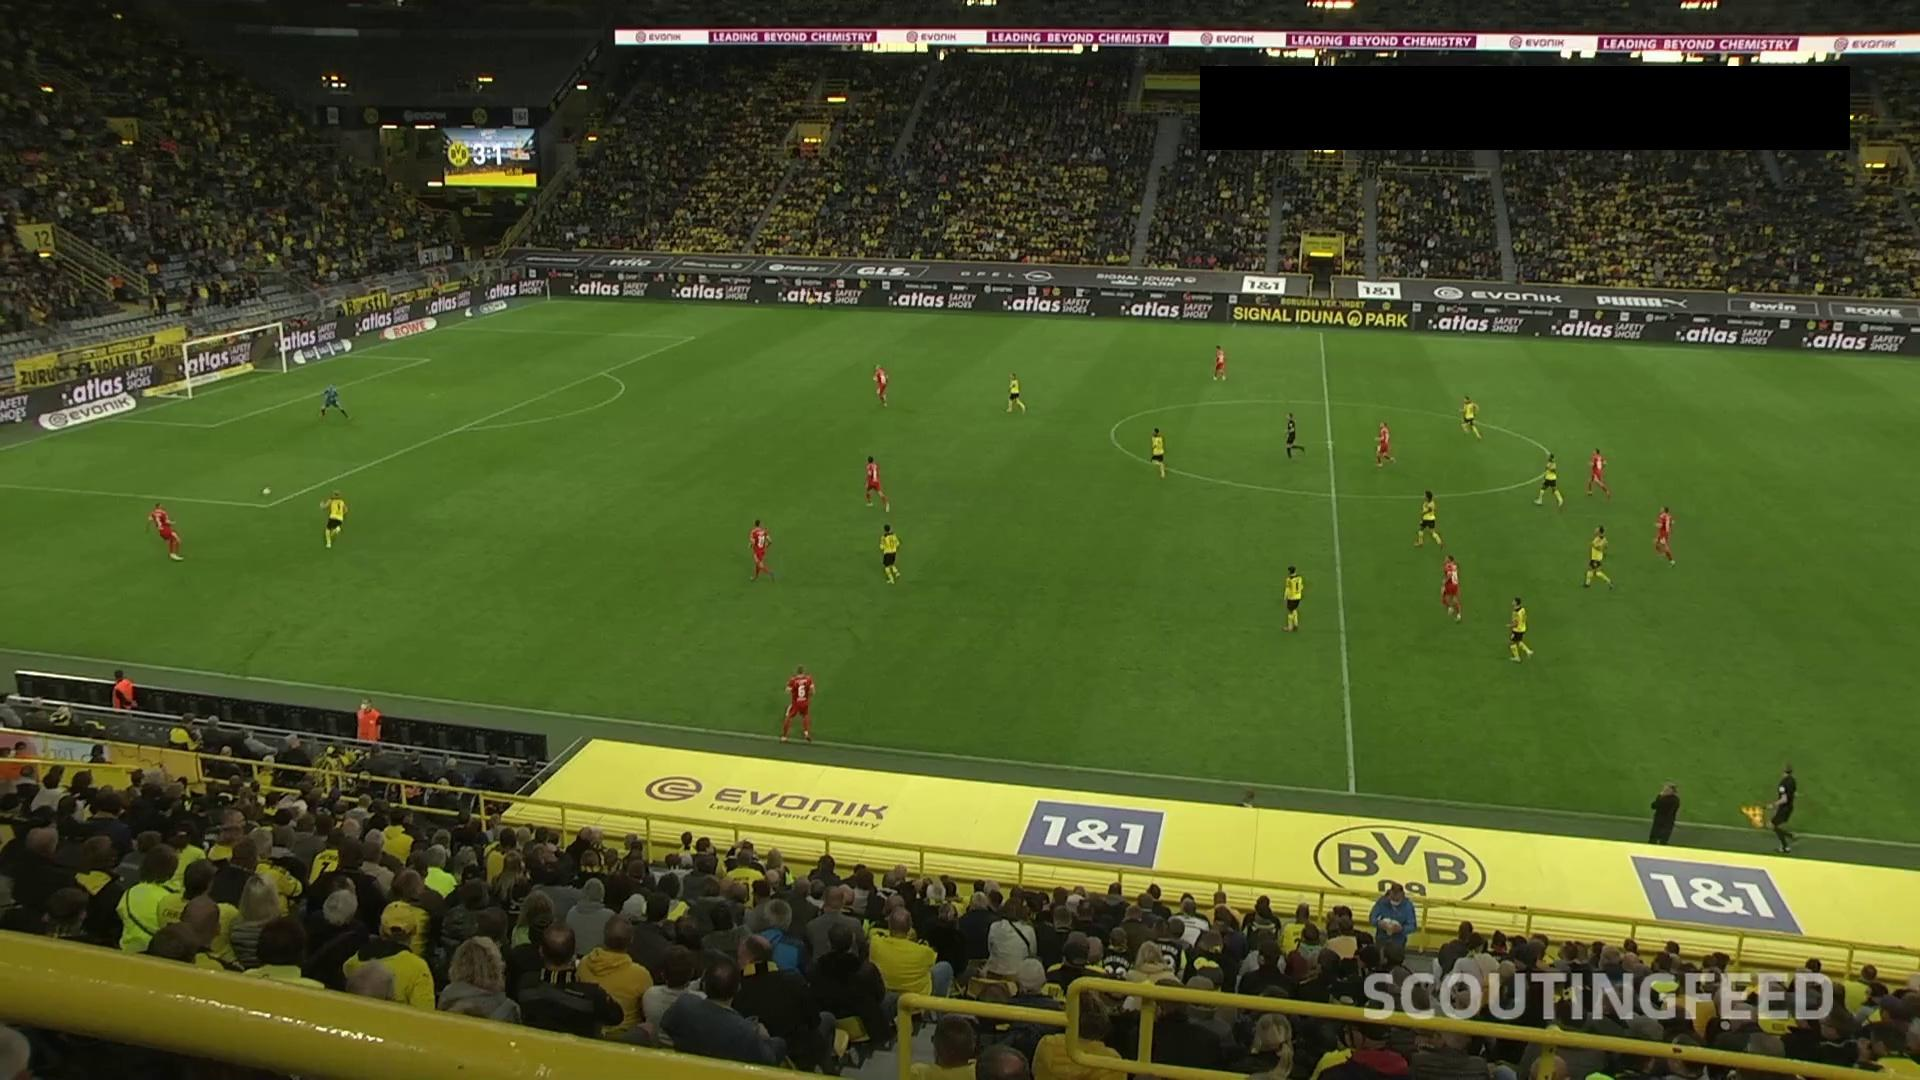Location-of-ball: (252, 476, 281, 501)
